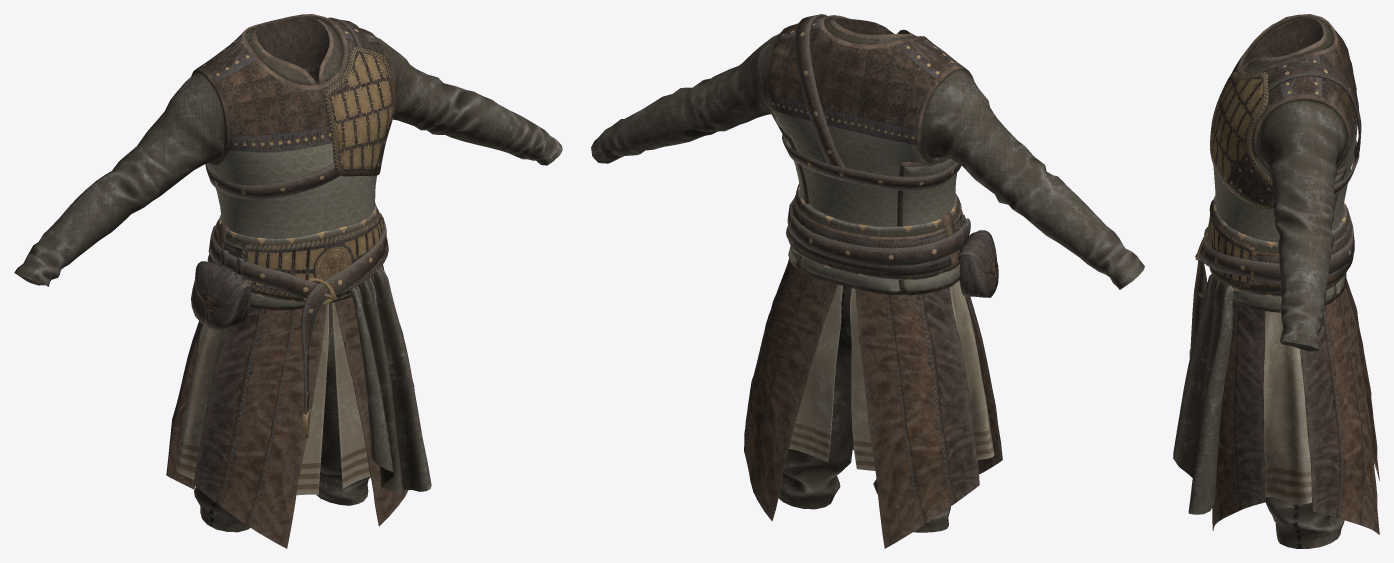
Rendered from dunland_wulf_scalemail_elite_a.fbx.
3 views of the same model, side by side, from view 1: azimuth 30°, elevation 25°; view 2: azimuth 150°, elevation 25°; view 3: azimuth 270°, elevation 25° (orthographic).
Visible parts, largest first — view 1: dunland_wulf_scalemail_elite_a.base, dunland_wulf_scalemail_elite_a.leatherskirt, dunland_wulf_scalemail_elite_a.prop, dunland_wulf_scalemail_elite_a.skirt, dunland_wulf_scalemail_elite_a.belt; view 2: dunland_wulf_scalemail_elite_a.base, dunland_wulf_scalemail_elite_a.leatherskirt, dunland_wulf_scalemail_elite_a.prop, dunland_wulf_scalemail_elite_a.skirt, dunland_wulf_scalemail_elite_a.belt; view 3: dunland_wulf_scalemail_elite_a.base, dunland_wulf_scalemail_elite_a.leatherskirt, dunland_wulf_scalemail_elite_a.prop, dunland_wulf_scalemail_elite_a.skirt, dunland_wulf_scalemail_elite_a.belt.
Part boxes in pixels (bbox=[...]): dunland_wulf_scalemail_elite_a.base: bbox=[14, 14, 562, 532]; dunland_wulf_scalemail_elite_a.leatherskirt: bbox=[166, 46, 414, 548]; dunland_wulf_scalemail_elite_a.prop: bbox=[191, 17, 431, 494]; dunland_wulf_scalemail_elite_a.skirt: bbox=[175, 302, 370, 495]; dunland_wulf_scalemail_elite_a.belt: bbox=[207, 202, 388, 302]; dunland_wulf_scalemail_elite_a.base: bbox=[591, 15, 1144, 532]; dunland_wulf_scalemail_elite_a.leatherskirt: bbox=[744, 258, 1002, 548]; dunland_wulf_scalemail_elite_a.prop: bbox=[782, 14, 998, 297]; dunland_wulf_scalemail_elite_a.skirt: bbox=[789, 280, 994, 470]; dunland_wulf_scalemail_elite_a.belt: bbox=[786, 184, 964, 280]; dunland_wulf_scalemail_elite_a.base: bbox=[1213, 14, 1358, 548]; dunland_wulf_scalemail_elite_a.leatherskirt: bbox=[1210, 71, 1379, 534]; dunland_wulf_scalemail_elite_a.prop: bbox=[1173, 62, 1361, 514]; dunland_wulf_scalemail_elite_a.skirt: bbox=[1263, 311, 1311, 504]; dunland_wulf_scalemail_elite_a.belt: bbox=[1207, 196, 1353, 297].
Bounding box in the file's own units: 1.38 × 0.4584 × 1.18.
Materials: 4 (4 with a texture image).
